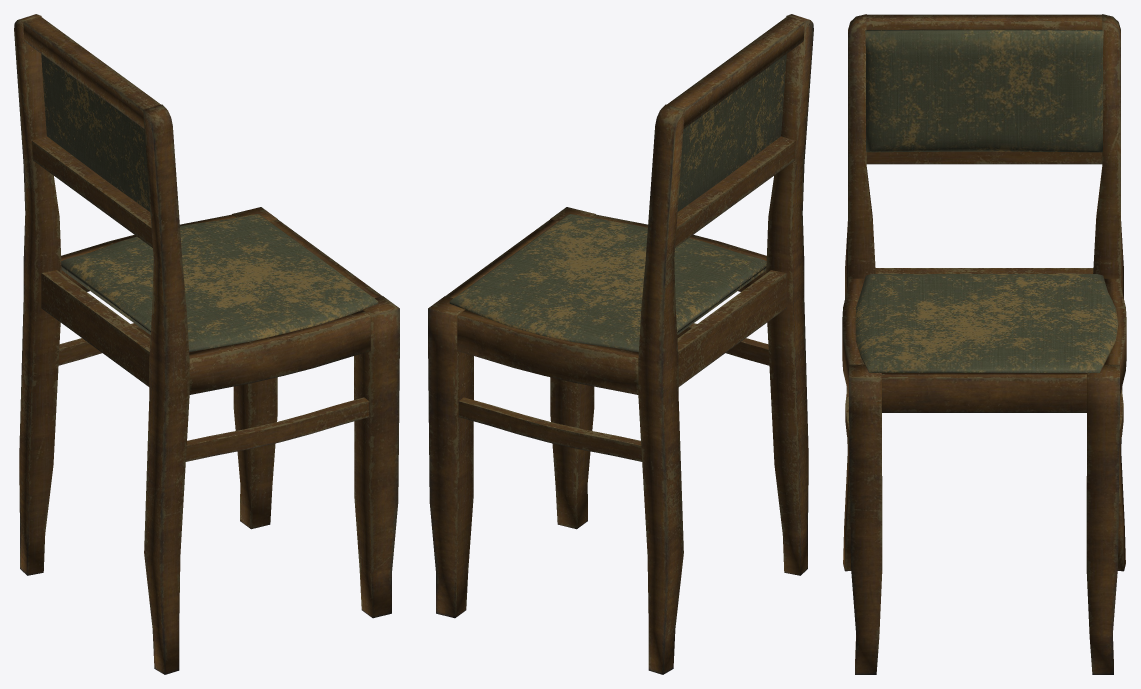
File: soviet_old_chair.glb
3 renders of one model, left to right at view 1: azimuth 30°, elevation 25°; view 2: azimuth 150°, elevation 25°; view 3: azimuth 270°, elevation 25°, orthographic. The views are drawn at different scales.
Visible parts, largest first — view 1: 103_low, 107_low, 100_low, 102_low, 109_low, 104_low, 106_low, 105_low, 108_low, 101_low; view 2: 103_low, 107_low, 100_low, 102_low, 109_low, 104_low, 106_low, 105_low, 108_low, 101_low; view 3: 109_low, 107_low, 100_low, 103_low, 101_low, 105_low, 108_low, 102_low, 104_low.
Boxes of the visible parts, x1,y1,x2,y2 form: 103_low: (14,14,189,674); 107_low: (61,214,378,352); 100_low: (232,207,399,618); 102_low: (61,214,370,394); 109_low: (41,54,150,211); 104_low: (41,270,150,386); 106_low: (58,323,369,461); 105_low: (23,16,160,128); 108_low: (32,136,152,247); 101_low: (269,219,382,298); 103_low: (638,14,813,674); 107_low: (449,214,766,352); 100_low: (428,207,595,618); 102_low: (457,214,766,394); 109_low: (677,54,786,211); 104_low: (677,270,786,386); 106_low: (458,323,769,461); 105_low: (667,16,804,128); 108_low: (675,136,795,247); 101_low: (445,219,558,298); 109_low: (865,29,1103,152); 107_low: (855,274,1118,372); 100_low: (849,364,1119,674); 103_low: (843,14,1125,571); 101_low: (882,373,1086,412); 105_low: (866,14,1102,29); 108_low: (866,151,1102,164); 102_low: (842,278,1126,395); 104_low: (875,268,1093,273).
Bounding box in the file's own units: 0.7836 × 1.69 × 0.7984.
Materials: 2 (2 with a texture image).
